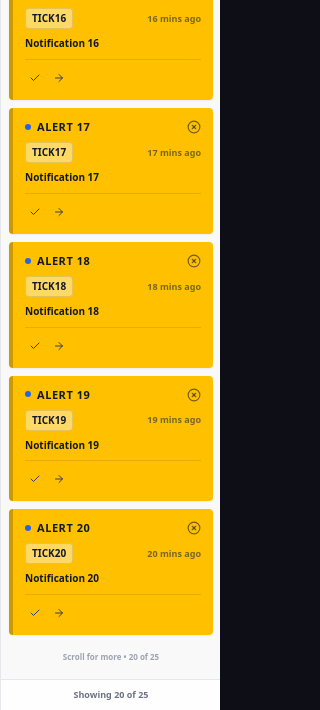
NotificationSidebar › renders notifications in 20-row batches and reveals more on fallback click
This screenshot has width=320, height=710.
(page scrolled)
Expected: the heading "Alert 20" is shown, x1=37 y1=521 x2=90 y2=535
Expected: the text "Alert 21" is not shown
Click the button "Scroll for more • 20 of 25" at (111, 657), box x1=9 y1=643 x2=213 y2=671
(page scrolled)
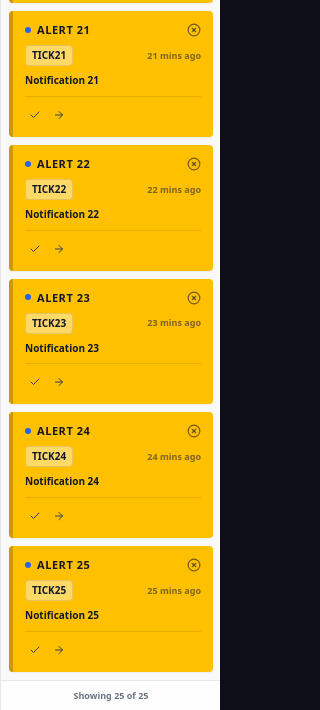
Expected: the heading "Alert 25" is shown, x1=37 y1=558 x2=90 y2=572
Expected: the button "Scroll for more" is gone
Expected: the text "Showing 25 of 25" is shown, x1=74 y1=689 x2=148 y2=702
